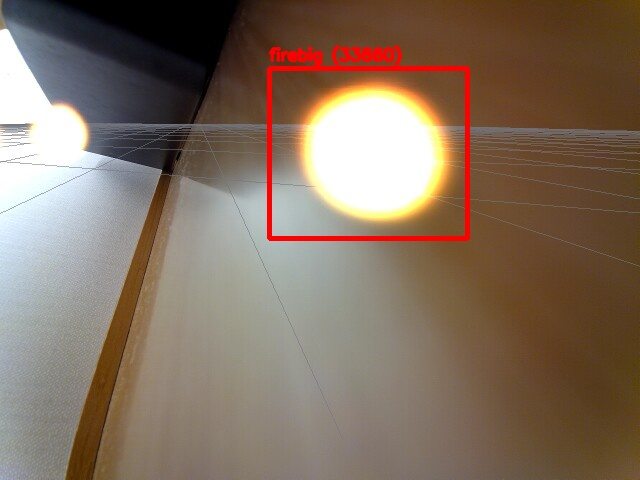firebig: (269, 68, 467, 238)
